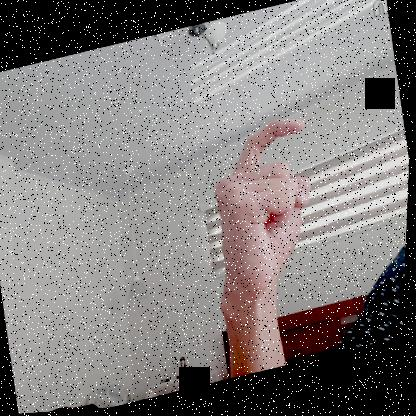X: (193, 111, 335, 313)
